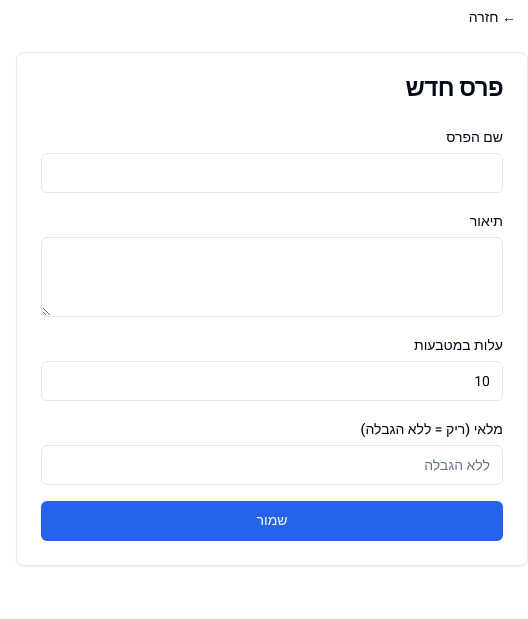
RewardFormPage — create mode › shows Hebrew error message when insert fails
Type "גלידה" into the field labelled "שם הפרס".
click(272, 173); type("גלידה")  # box 41,153 -> 503,193
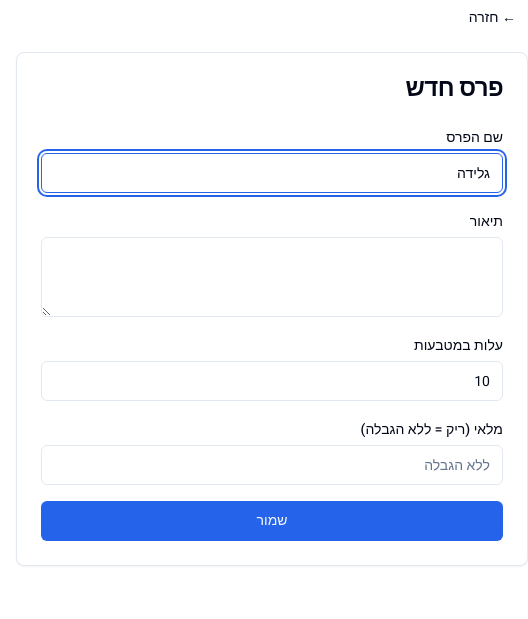
Replace the text in the number field labelled "עלות במטבעות" with "20" at x=272, y=381, box 41,361 -> 503,401
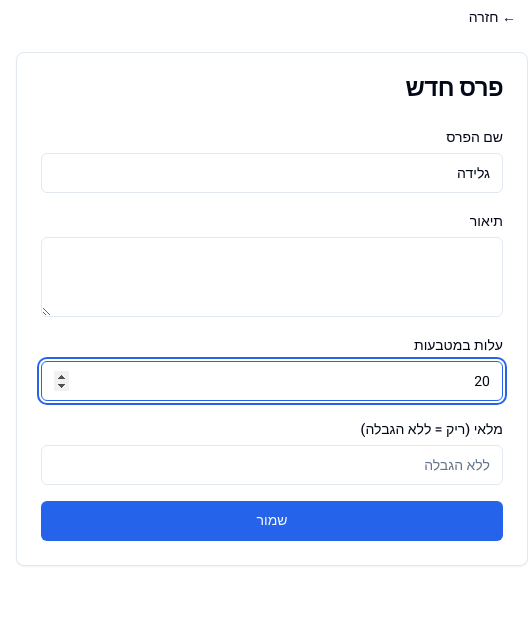
Click the button "שמור".
click(272, 521)  # box 41,501 -> 503,541
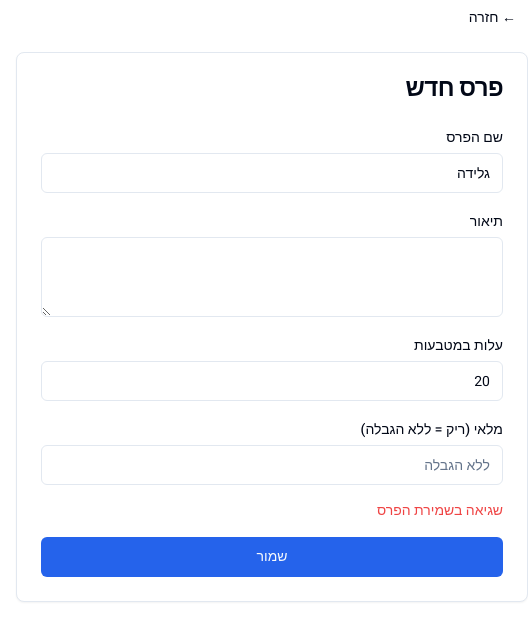
Expected: the message reads "שגיאה בשמירת הפרס", 377,500 -> 503,521
